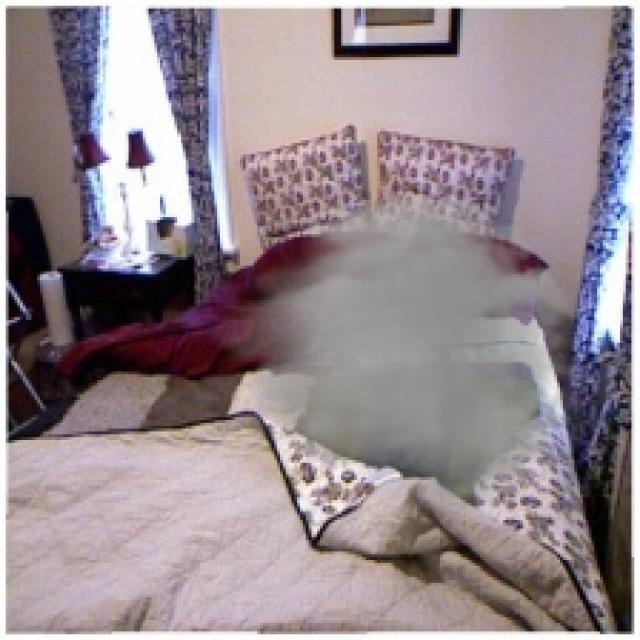smoke: (200, 186, 603, 537)
